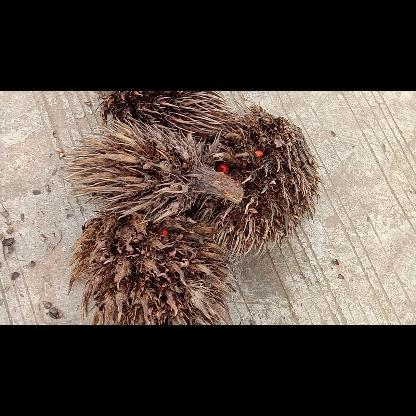Janjang kosong: (60, 116, 242, 222), (198, 105, 320, 261), (69, 212, 237, 324), (98, 91, 236, 141)
